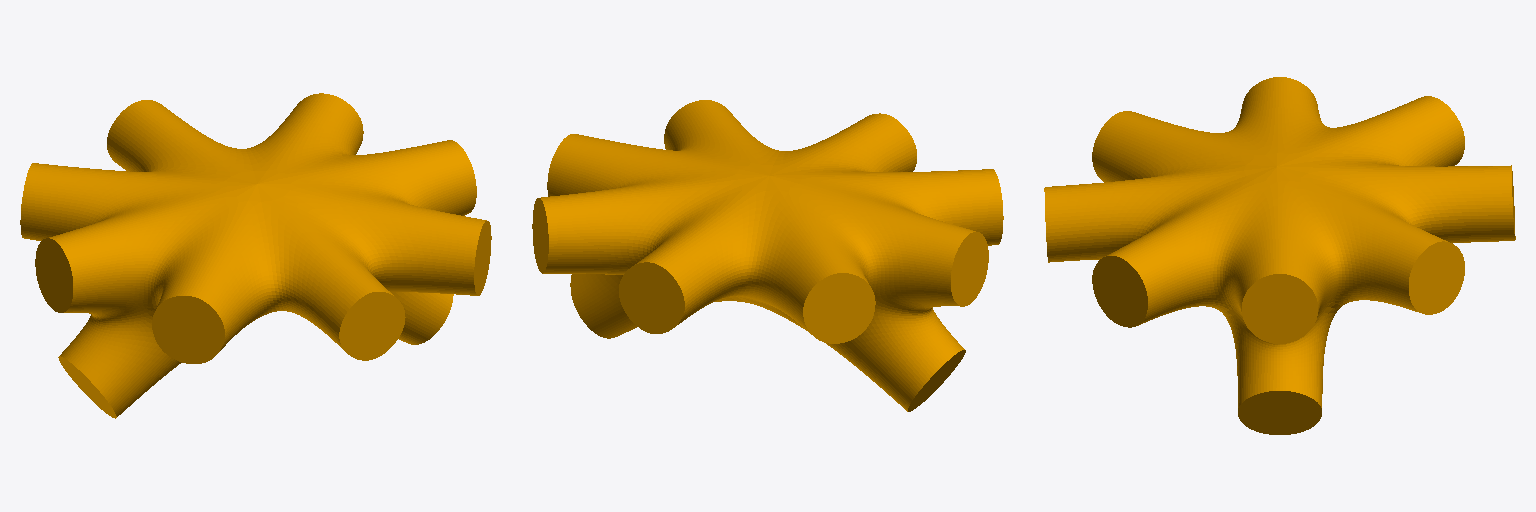
The robot description file, URDF, robot "object":
<robot name="object">
  <link name="object">
    <visual>
      <origin xyz="0 0 0"/>
      <geometry>
        <mesh filename="visual.obj" scale="1 1 1"/>
      </geometry>
    </visual>
    <collision>
      <origin xyz="0 0 0"/>
      <geometry>
        <mesh filename="collision.obj" scale="1 1 1"/>
      </geometry>
    </collision>
    <inertial>
      <mass value="0.05"/>
      <inertia ixx="0.00016499546673382694" iyy="0.00024705304752426936" izz="0.00035165456266144014" ixy="5.684020610620698e-09" ixz="-2.485638397254963e-07" iyz="-6.071359551215301e-06"/>
    </inertial>
  </link>
</robot>

--- What the picture shows (computed from the rendered views, not written in the file) ---
Views: 3 orthographic renders of the robot side by side, from view 1: azimuth 30°, elevation 25°; view 2: azimuth 150°, elevation 25°; view 3: azimuth 270°, elevation 25°.
Model object with 1 links and 0 joints (none), rooted at object, posed all joints at 0.
Visible links, largest first — view 1: object; view 2: object; view 3: object.
Boxes of the visible links, box(x1,y1,x2,y2) form: object: box(20, 93, 491, 418); object: box(532, 100, 1003, 411); object: box(1044, 77, 1515, 434).
Bounding box of the posed robot: 0.2808 × 0.282 × 0.1293 m (x, y, z).
Meshes: 1 distinct files referenced, 1 mesh visuals loaded (1 OBJ).
